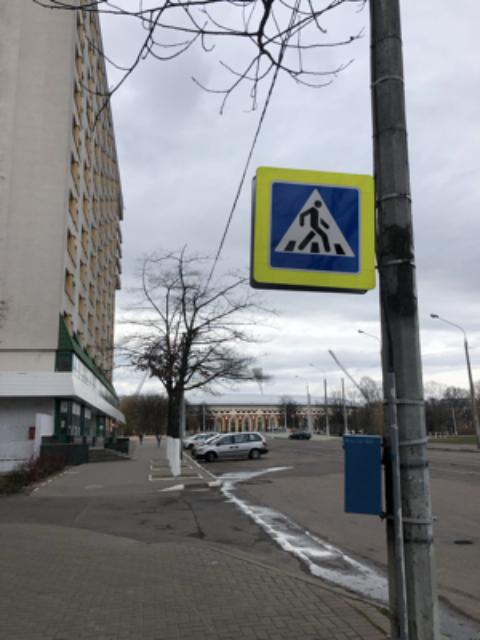crosswalk-sign: (249, 165, 377, 294)
